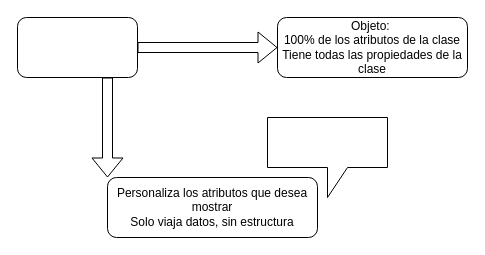
Image size: 485x255. Some labels were removed from this diagram. Here are the shapes that lost their labels. From the top down, the centre of each, then its label:
At point 77,47: "Class Persona".
At point 327,157: "DTO Transferencia de Datos del Objeto".
